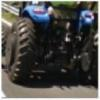tractors: (3, 2, 98, 86)
